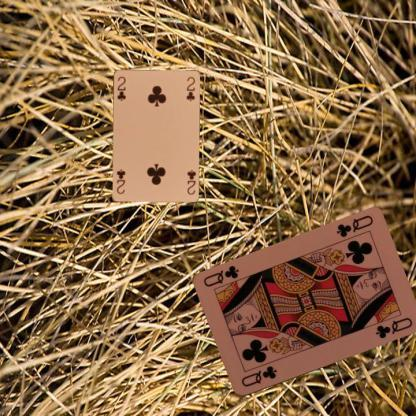2c: (184, 167, 196, 196), (115, 74, 127, 102)
Qc: (334, 212, 374, 240), (238, 363, 278, 389)
